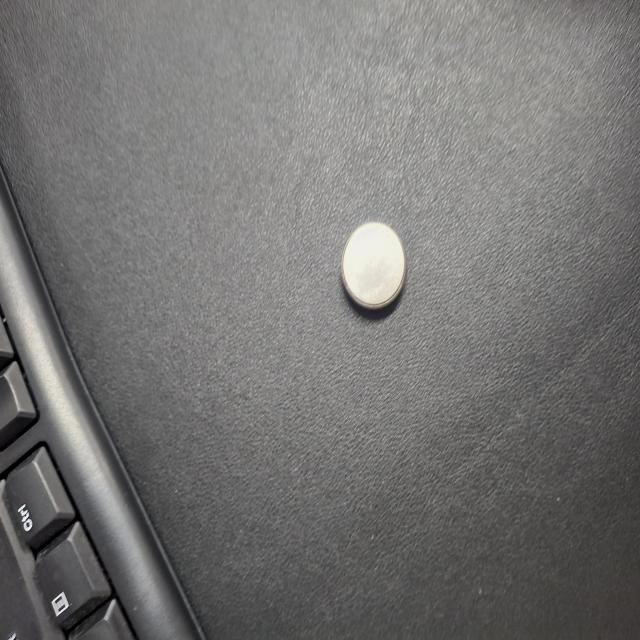COIN: (166, 312, 232, 398)
